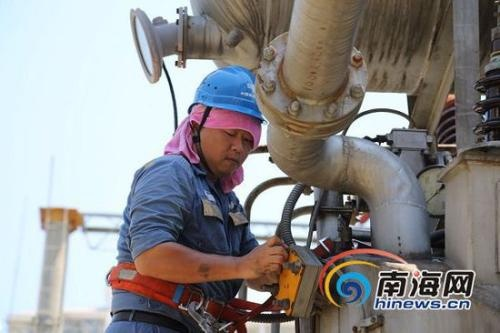blue: (189, 65, 264, 172)
